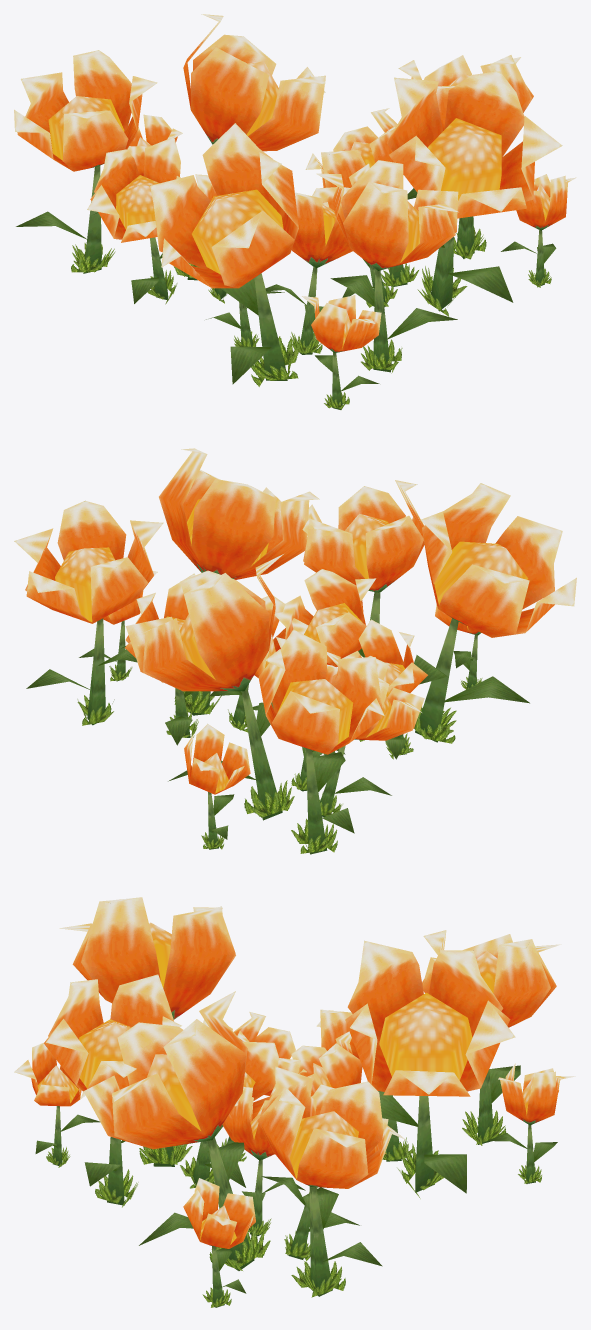
Rendered from obj_macoprfl03-03.glb.
The picture shows the model from 3 angles, top to bottom: view 1: azimuth 30°, elevation 25°; view 2: azimuth 150°, elevation 25°; view 3: azimuth 270°, elevation 25°; orthographic projection. The views are drawn at different scales.
Visible parts, largest first — view 1: part_0; view 2: part_0; view 3: part_0.
Part boxes in pixels (<box>): part_0: <box>14,14,576,409</box>; part_0: <box>14,448,576,854</box>; part_0: <box>14,897,575,1307</box>.
Size of the model in its own units: 1.26 by 0.6755 by 1.27.
Materials: 2 (2 with a texture image).
